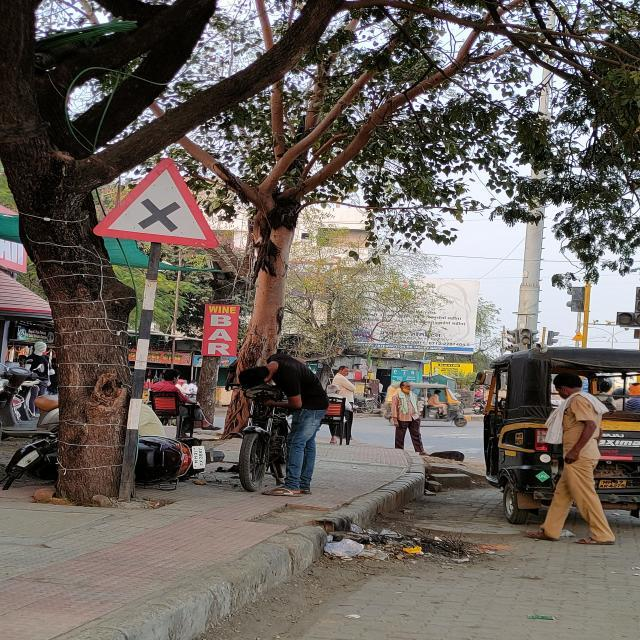cross road: (82, 154, 222, 253)
